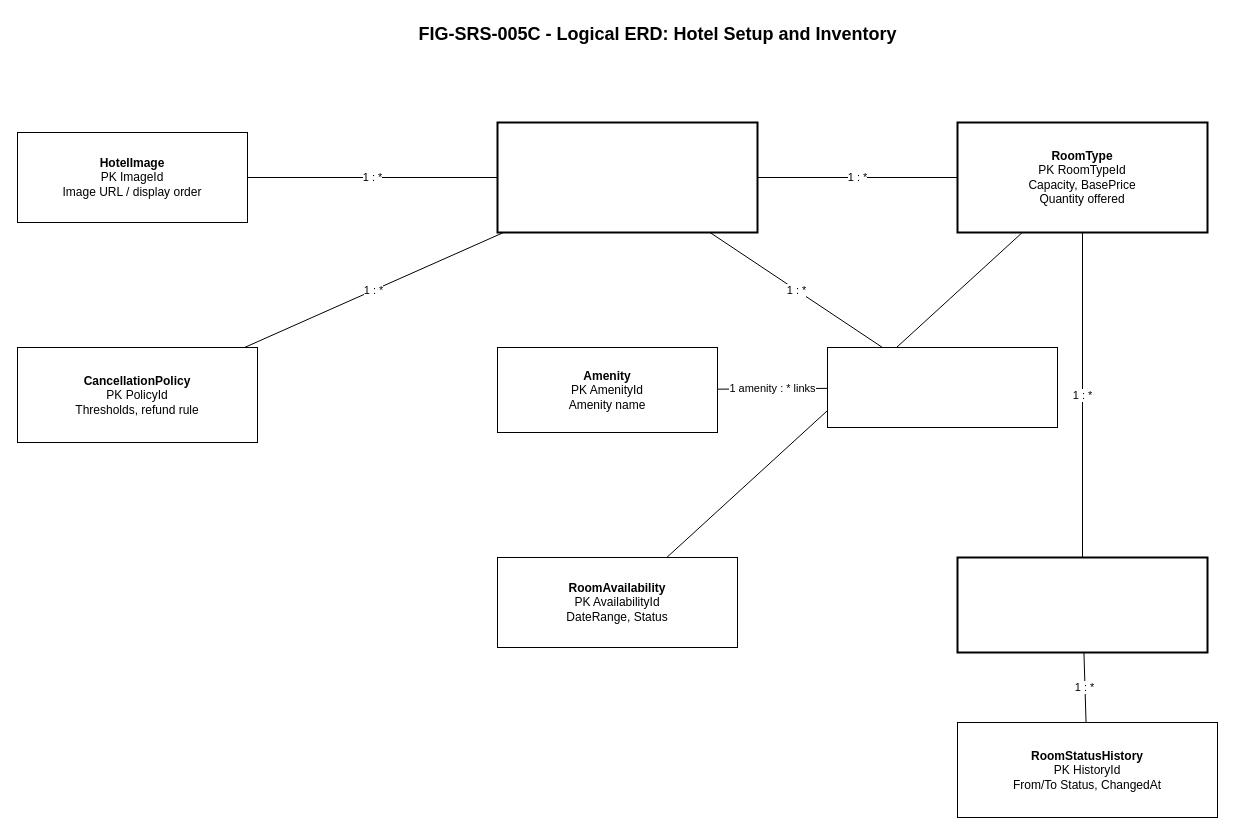
The diagram is 1235 pixels wide and 835 high, and some of its shapes have lost their labels. The centre of each missing label's shape, as x and y in pixels:
"HotelAmenity Hotel-Amenity link" goes at point 942,387.
"HotelProperty PK HotelId Owner, ApprovalStatus Name, address, profile" goes at point 627,177.
"PhysicalRoom PK PhysicalRoomId Room number, RoomStatus" goes at point 1082,604.
